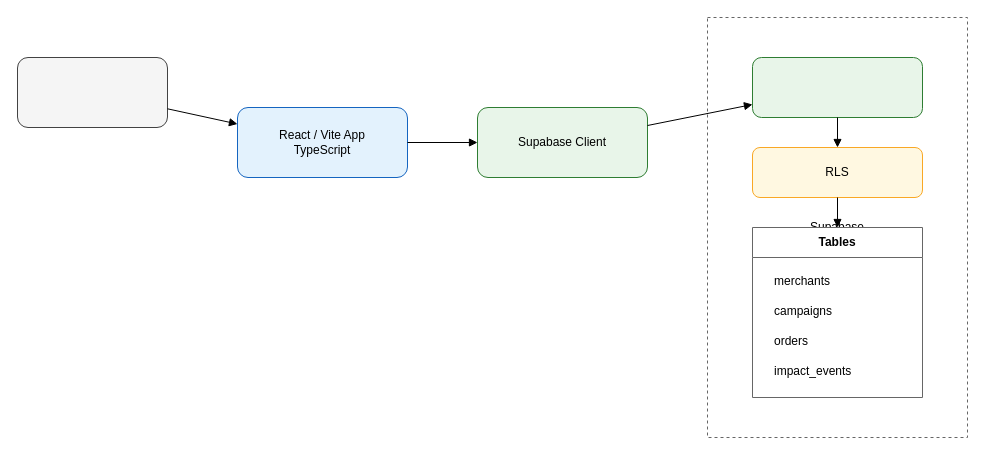
Some shapes in this 985 by 455 pixel diagram are drawn without their labels. The box of each missing label's shape, as (x1, y1, x2, y2) in pixels:
Browser: (16, 56, 168, 128)
Supabase Postgres: (752, 56, 922, 118)
